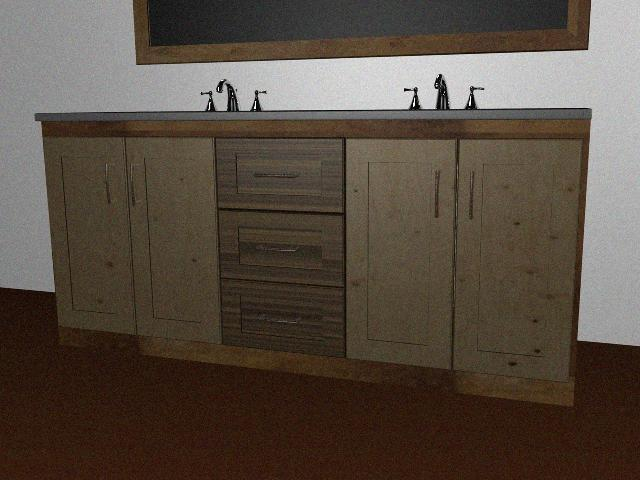cabinet_door: (456, 138, 576, 376), (346, 138, 457, 364), (130, 137, 220, 340), (51, 136, 130, 330), (217, 138, 346, 210), (220, 210, 346, 282), (222, 282, 346, 352)
handle: (250, 239, 303, 259), (256, 310, 306, 329), (254, 166, 304, 181), (101, 160, 116, 209), (431, 168, 443, 220), (465, 169, 476, 219), (127, 159, 138, 209)
